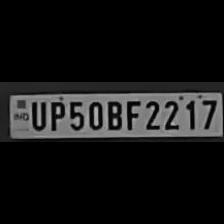0: (84, 99, 104, 131)
1: (181, 97, 197, 130)
2: (160, 97, 180, 130), (142, 97, 160, 130)
5: (65, 99, 84, 131)
7: (198, 97, 216, 130)
B: (105, 97, 123, 130)
F: (124, 98, 140, 132)
P: (47, 98, 65, 132)
U: (28, 99, 46, 131)
